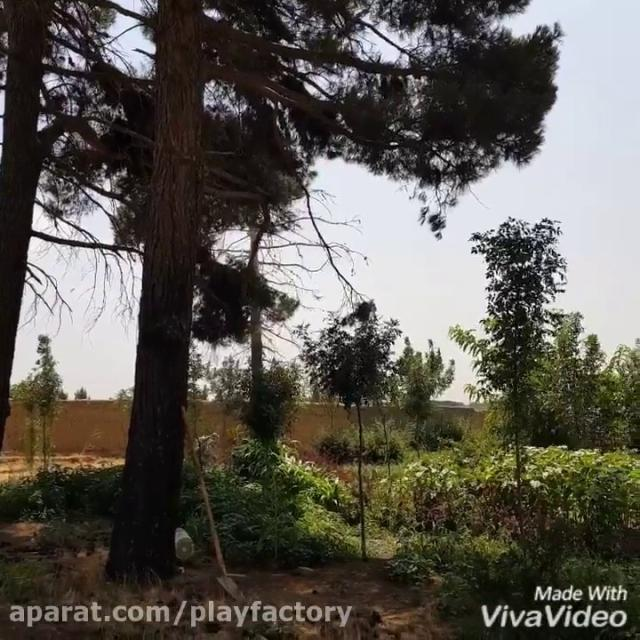drone: (312, 289, 324, 301)
